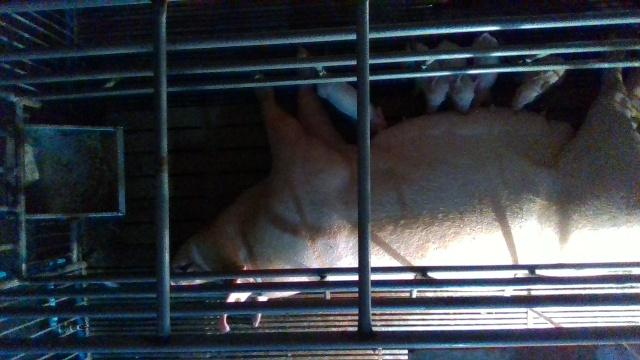piglet: (317, 82, 387, 133), (406, 38, 451, 113), (510, 55, 568, 111), (438, 41, 481, 115), (473, 35, 502, 107)
sow-sleep-lactate: (175, 69, 640, 332)
